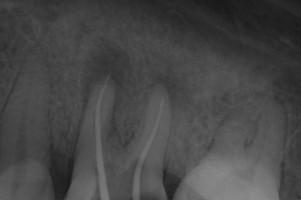Furcation Involvement: (78, 37, 133, 103), (151, 68, 180, 102)
